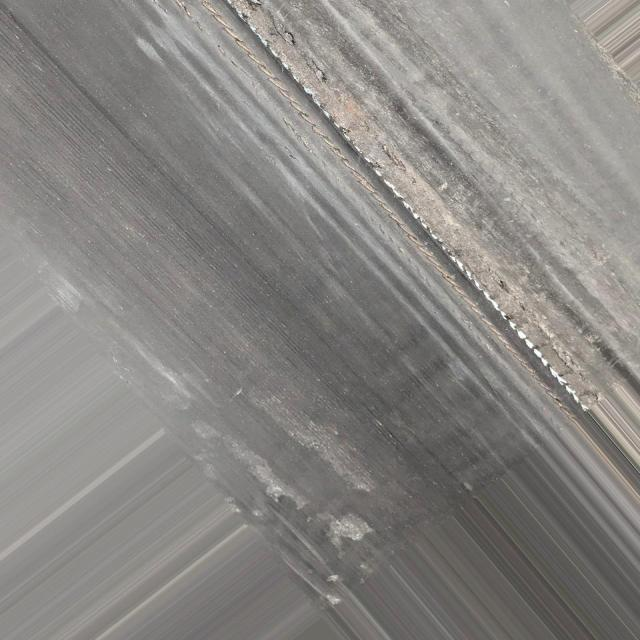Wear: (184, 0, 620, 448)
